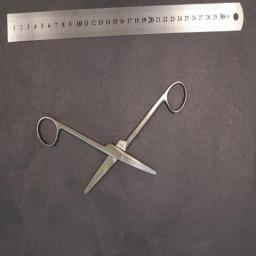Curved Mayo Scissors: (36, 80, 188, 196)
